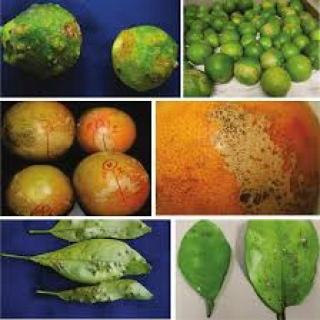orange: (258, 64, 298, 106), (208, 48, 235, 90), (235, 57, 265, 93)
